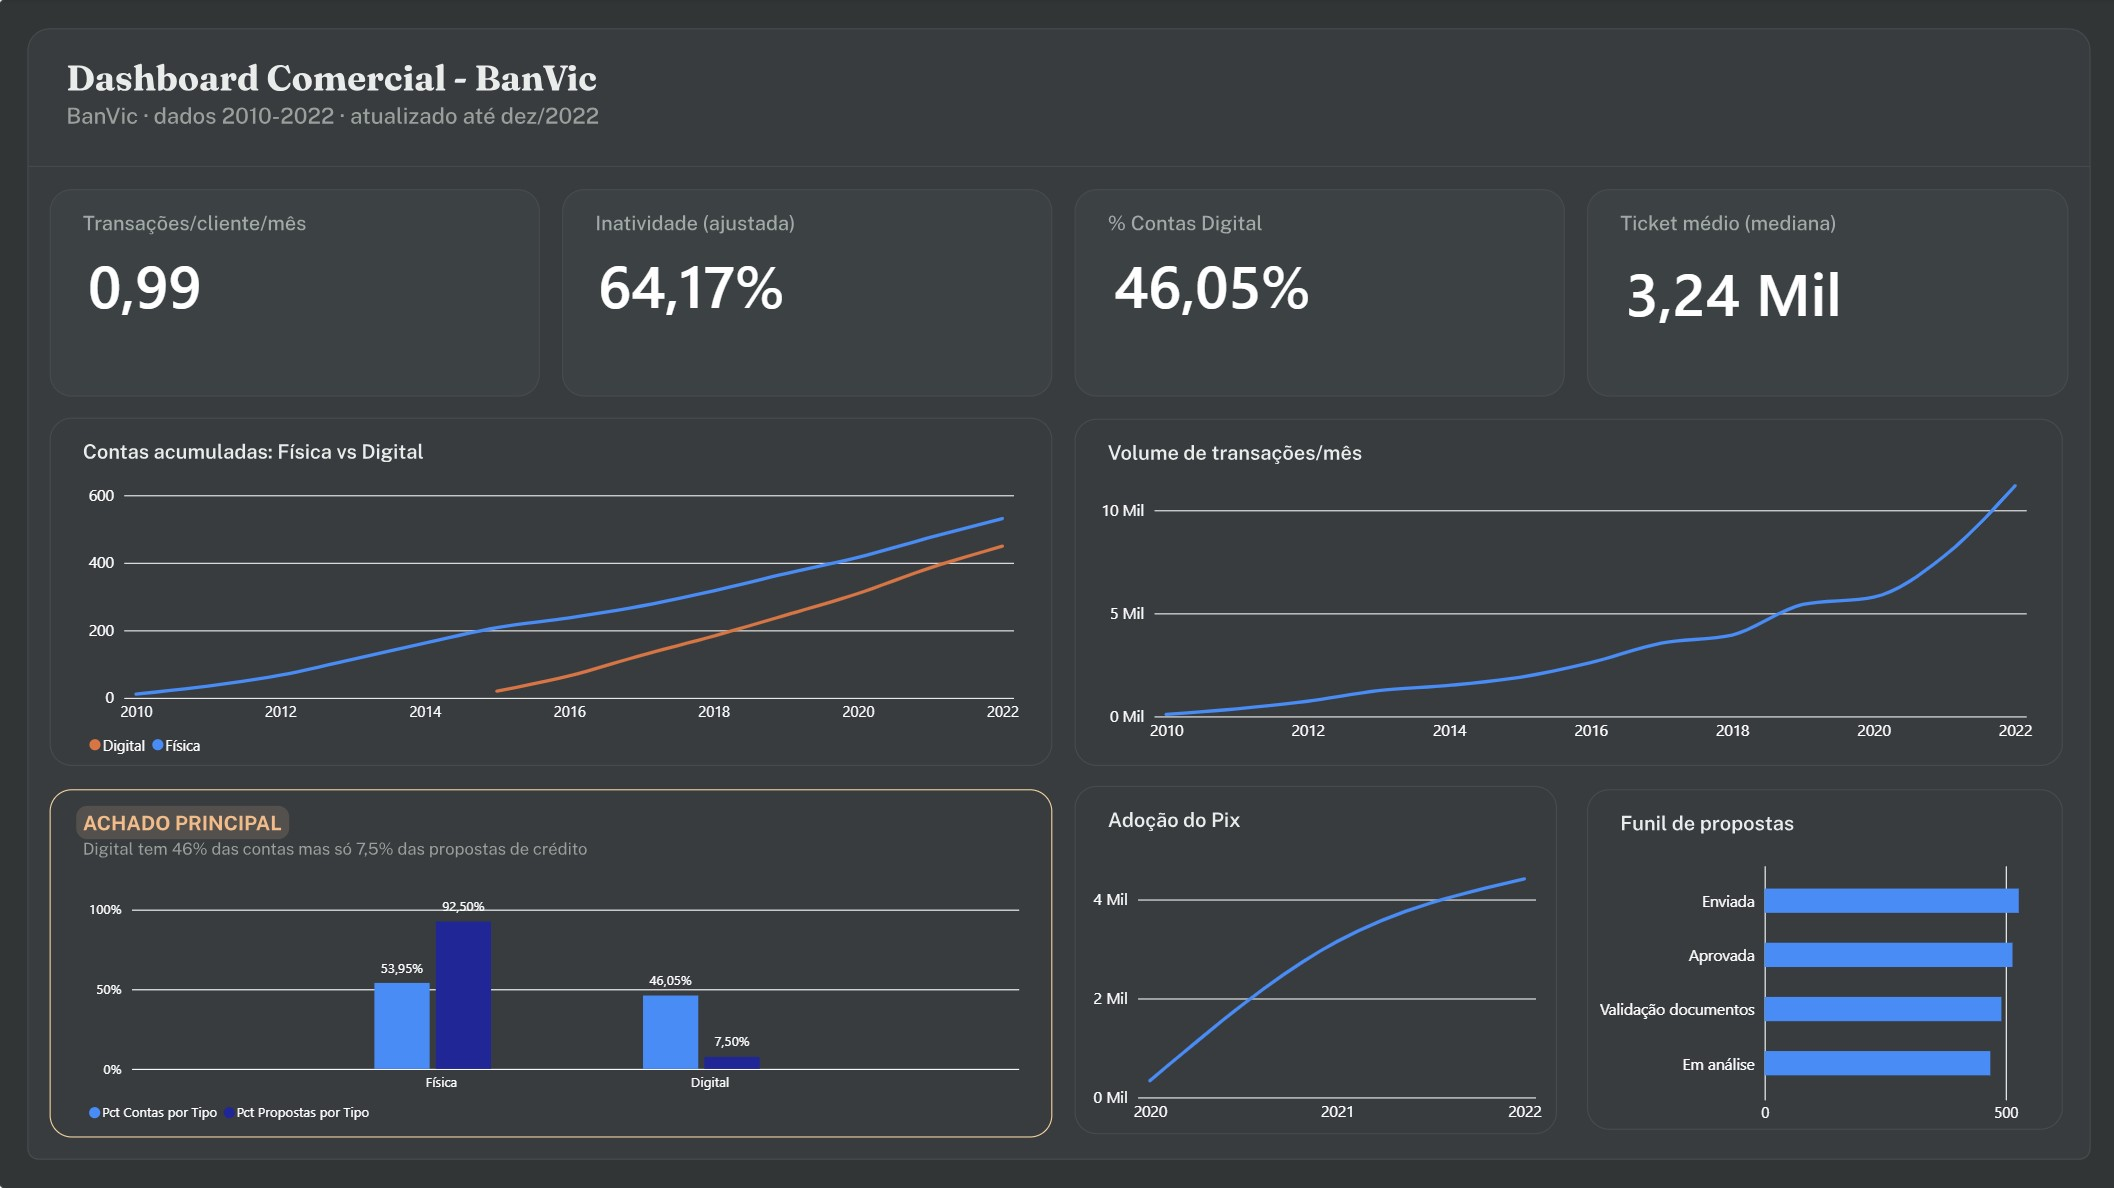

The page's visual inventory and layout, read from the dashboard file:
{"tool":"powerbi","page":{"name":"Página 1","canvas":[1920,1080],"ordinal":0},"visuals":[{"type":"cardVisual","fields":{"Data":["Medidas.Transacoes por Cliente Mes"]},"box":[69.2,220.8,137,75.8],"z":0},{"type":"cardVisual","fields":{"Data":["Medidas.Taxa Inatividade Ajustada"]},"box":[529.4,220.8,214.1,75.8],"z":1000},{"type":"cardVisual","fields":{"Data":["Medidas.Pct Contas Digital"]},"box":[993.5,220.8,218.1,75.8],"z":2000},{"type":"cardVisual","fields":{"Data":["Medidas.Ticket Medio Mediana"]},"box":[1455.1,220.8,258,89.1],"z":3000},{"type":"clusteredColumnChart","fields":{"Category":["agencias.tipo_agencia"],"Y":["Medidas.Pct Contas por Tipo","Medidas.Pct Propostas por Tipo"]},"box":[69.2,786.1,871.2,248.7],"z":4000},{"type":"barChart","fields":{"Category":["propostas_credito.status_proposta"],"Y":["Medidas.Total Propostas"]},"box":[1421.8,760.8,462.9,274],"z":5000},{"type":"lineChart","fields":{"Category":["Calendario.Ano"],"Y":["Medidas.Total Transacoes"]},"box":[982.2,402.2,872.2,290],"z":6000},{"type":"lineChart","fields":{"Category":["Calendario.Ano"],"Y":["Medidas.Total Transacoes Pix"]},"box":[974.4,744.4,436.7,290],"z":7000},{"type":"lineChart","fields":{"Category":["Calendario.Ano"],"Series":["agencias.tipo_agencia"],"Y":["Medidas.Contas Acumuladas"]},"box":[68.9,423.3,871.1,280],"z":8000}]}

Visuals, with their boxes in screenshot pixels (x1, y1, x2, y2), scaled from the page's 1920x1080 canvas onto the 2114x1188 screenshot:
cardVisual - Medidas.Transacoes por Cliente Mes: (76,243,227,326)
cardVisual - Medidas.Taxa Inatividade Ajustada: (583,243,819,326)
cardVisual - Medidas.Pct Contas Digital: (1094,243,1334,326)
cardVisual - Medidas.Ticket Medio Mediana: (1602,243,1886,341)
clusteredColumnChart - agencias.tipo_agencia x Medidas.Pct Contas por Tipo: (76,865,1035,1138)
barChart - propostas_credito.status_proposta x Medidas.Total Propostas: (1565,837,2075,1138)
lineChart - Calendario.Ano x Medidas.Total Transacoes: (1081,442,2042,761)
lineChart - Calendario.Ano x Medidas.Total Transacoes Pix: (1073,819,1554,1138)
lineChart - Calendario.Ano x agencias.tipo_agencia: (76,466,1035,774)
